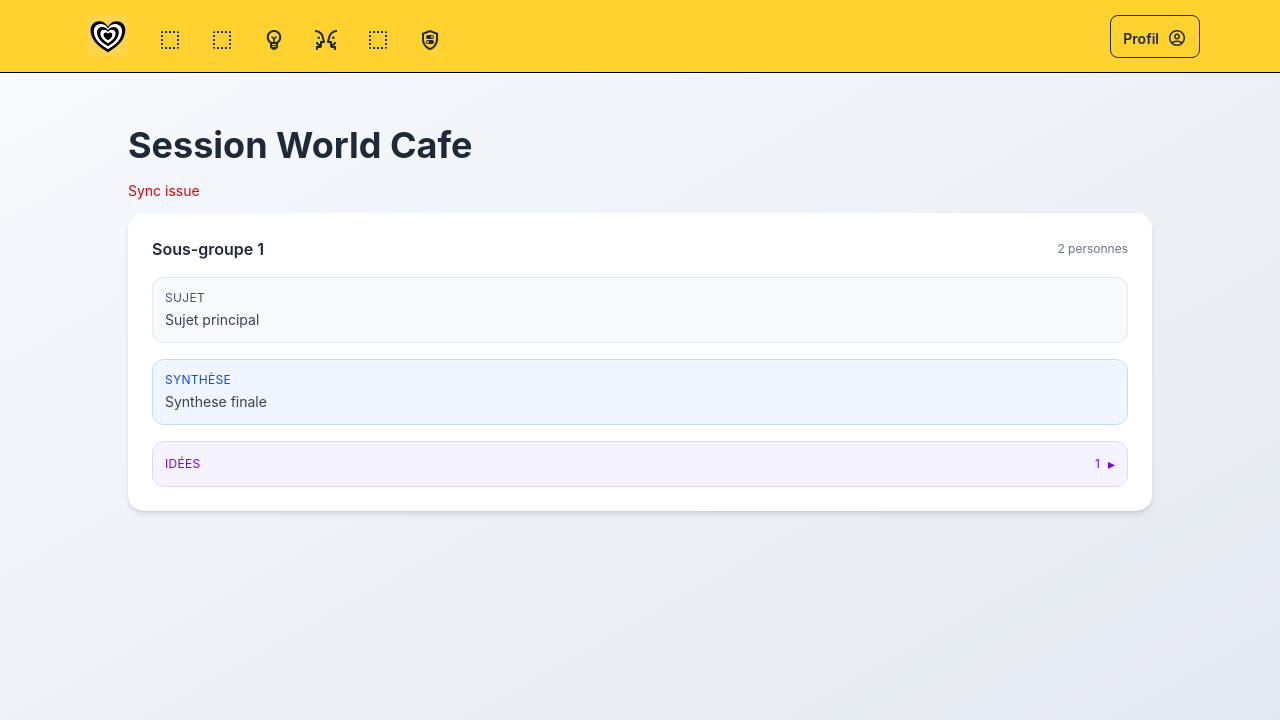
it: WorldCoffeeSummary › renders summary header and restitution content
Check: the heading "Session World Cafe" is shown, box [128,125,472,165]
Check: the heading "Sous-groupe 1" is shown, box [152,237,264,261]
Step 1. Click the button "Idées 1 ▸" → click(183, 464), box [165,454,1115,474]
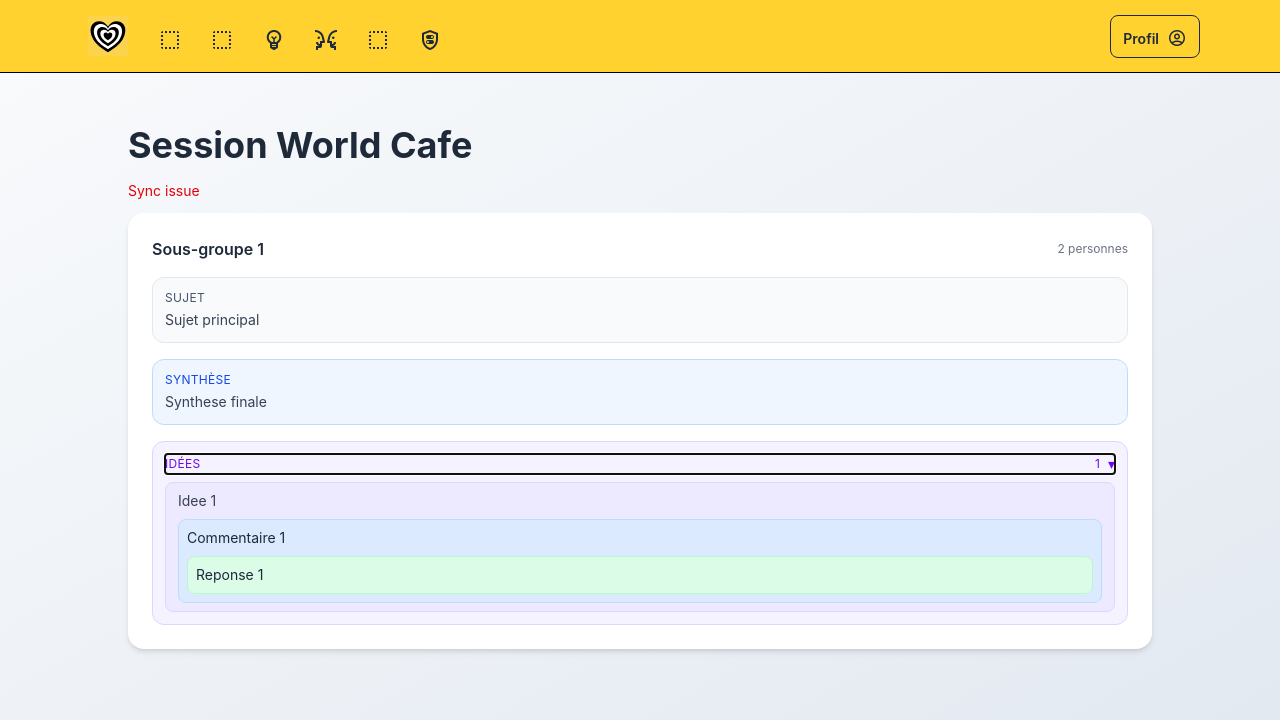
Check: the text "Idee 1" is shown, box [178,492,216,509]
Check: the text "Commentaire 1" is shown, box [187,529,285,546]
Check: the text "Reponse 1" is shown, box [196,566,263,583]
